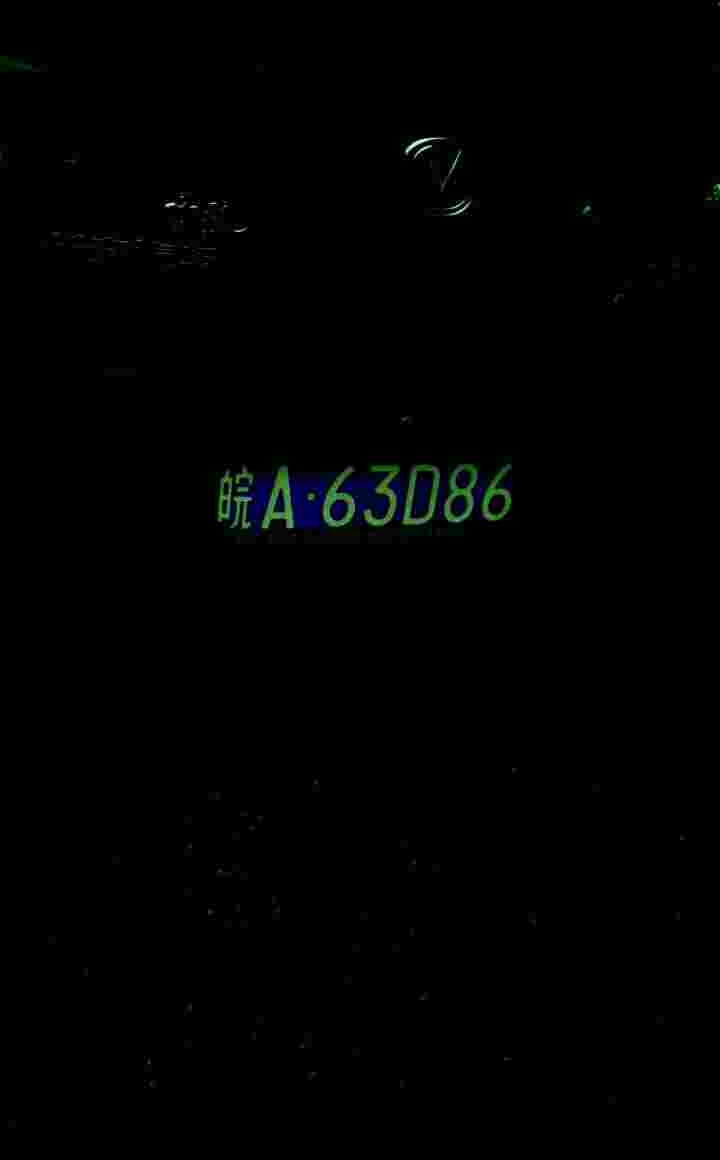license_plate: (204, 457, 526, 543)
